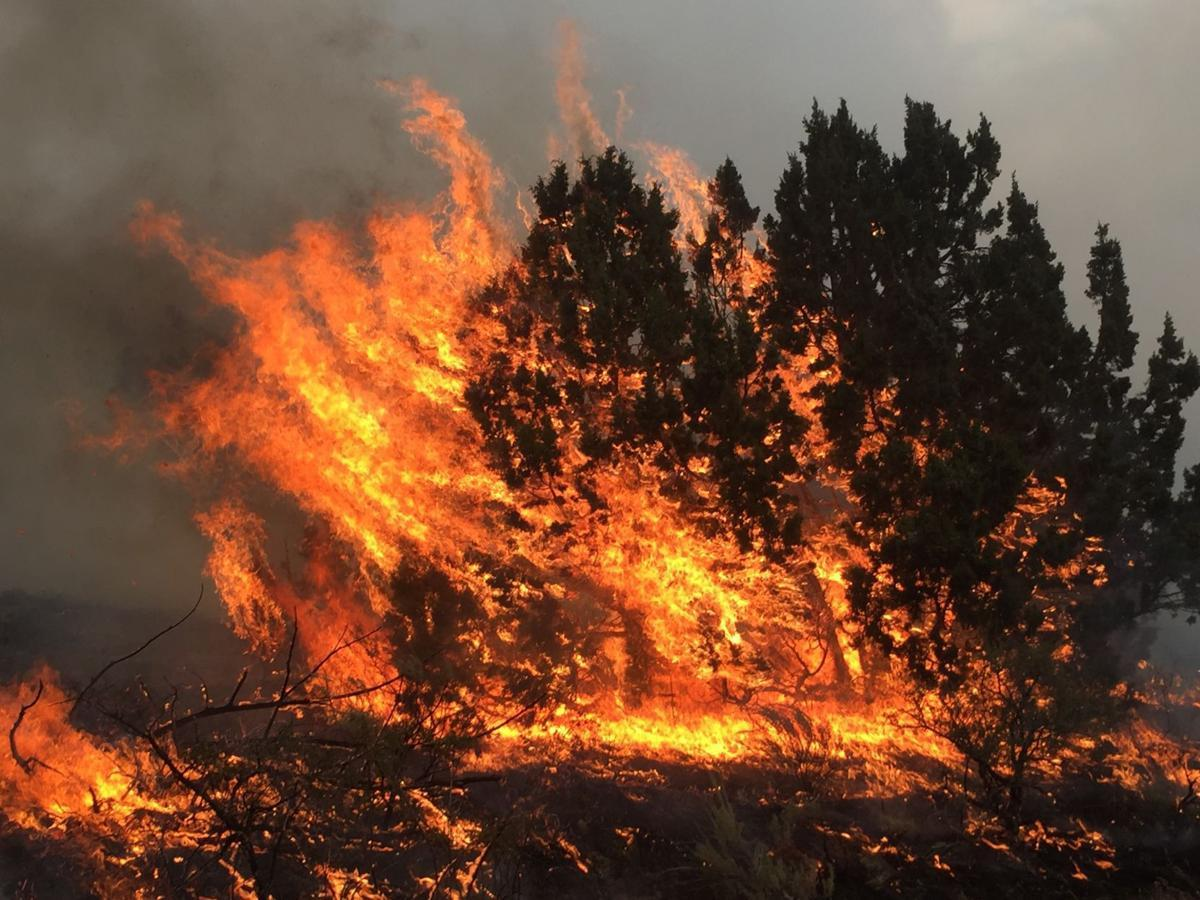fire: (3, 89, 1023, 887)
